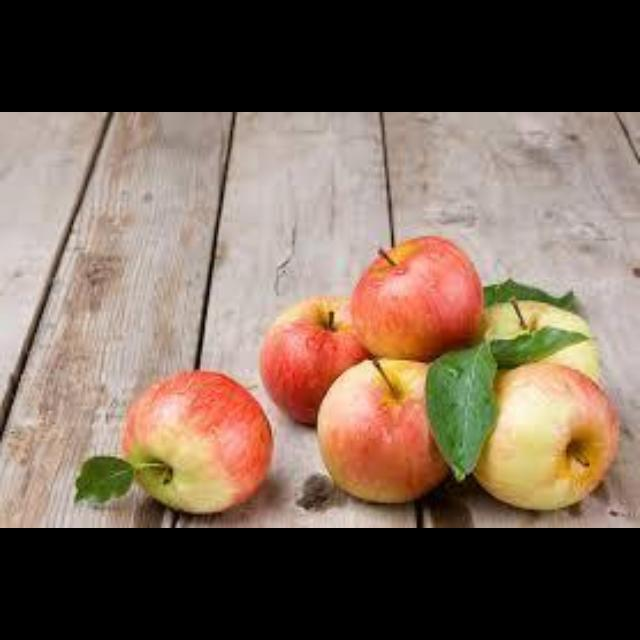apple: (78, 372, 272, 513), (477, 363, 617, 508), (315, 358, 447, 501), (350, 236, 481, 361), (260, 296, 368, 423), (518, 298, 599, 381), (481, 303, 525, 338)
